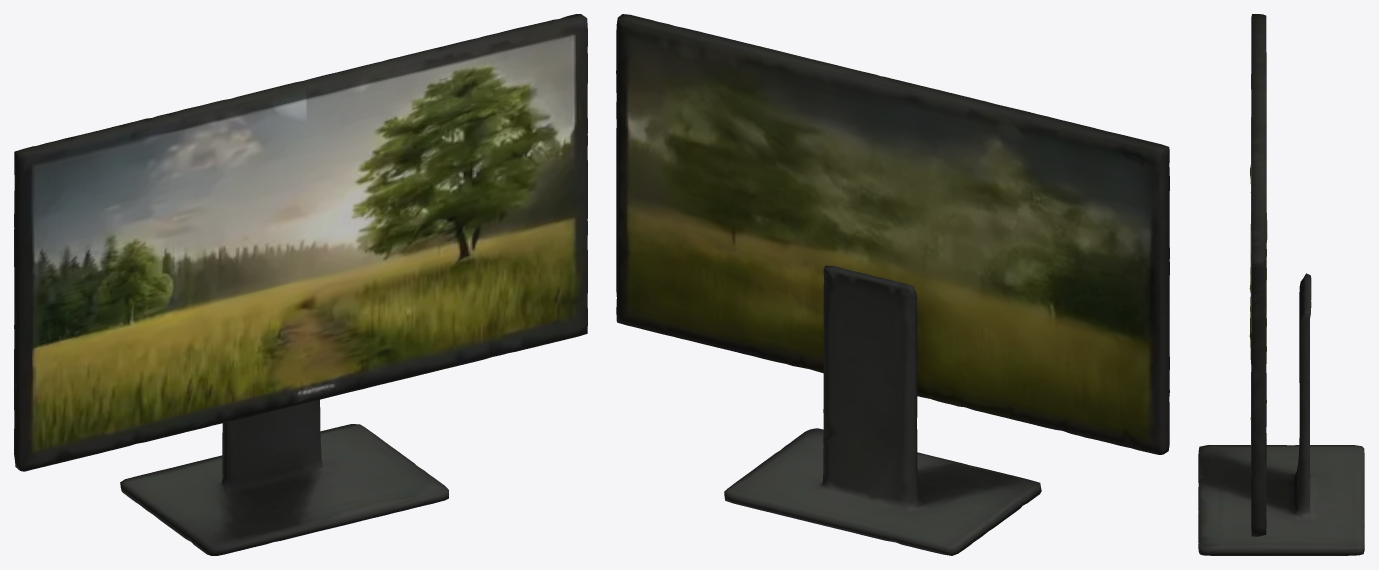
3 renders of one model, left to right at view 1: azimuth 30°, elevation 25°; view 2: azimuth 150°, elevation 25°; view 3: azimuth 270°, elevation 25°, orthographic. The views are drawn at different scales.
Parts seen in each view (by area): view 1: geometry_0; view 2: geometry_0; view 3: geometry_0.
Boxes of the visible parts, bbox=[...] form: geometry_0: bbox=[14, 14, 587, 555]; geometry_0: bbox=[616, 14, 1169, 555]; geometry_0: bbox=[1198, 14, 1364, 555].
Bounding box in the file's own units: 1.89 × 1.34 × 0.5441.
Materials: 1 (1 with a texture image).
